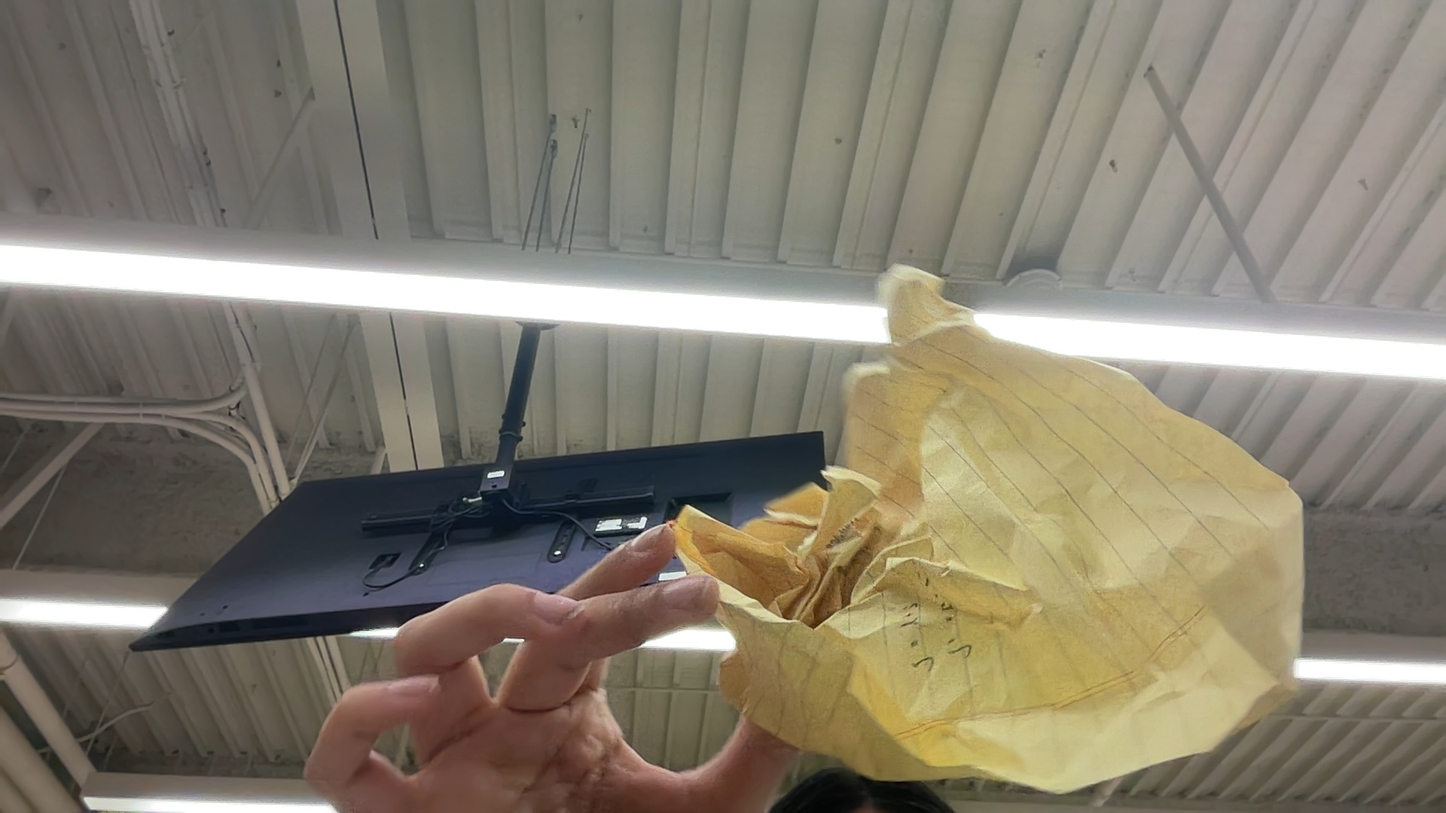Paper: (1296, 654, 1446, 681)
